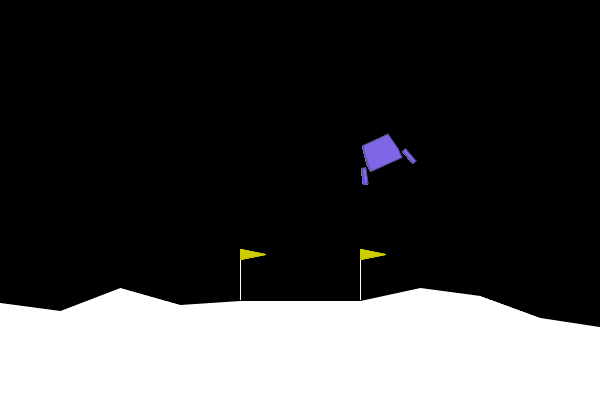lander: (347, 126, 418, 187)
